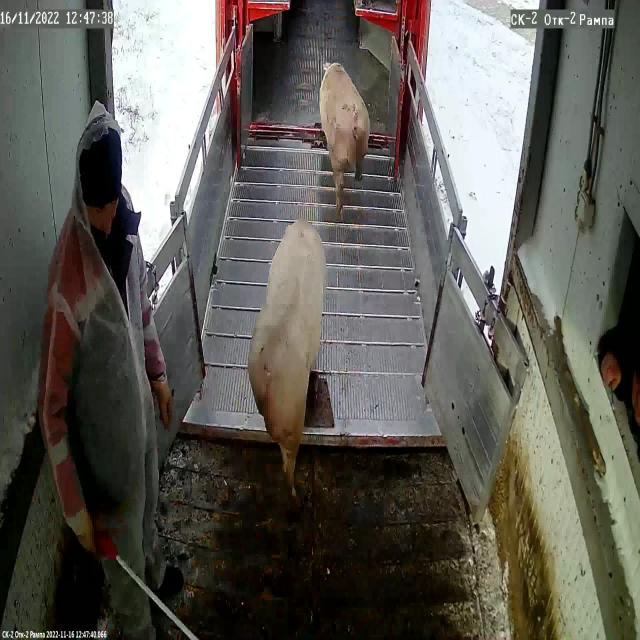pig: (248, 222, 326, 487), (320, 63, 370, 215)
